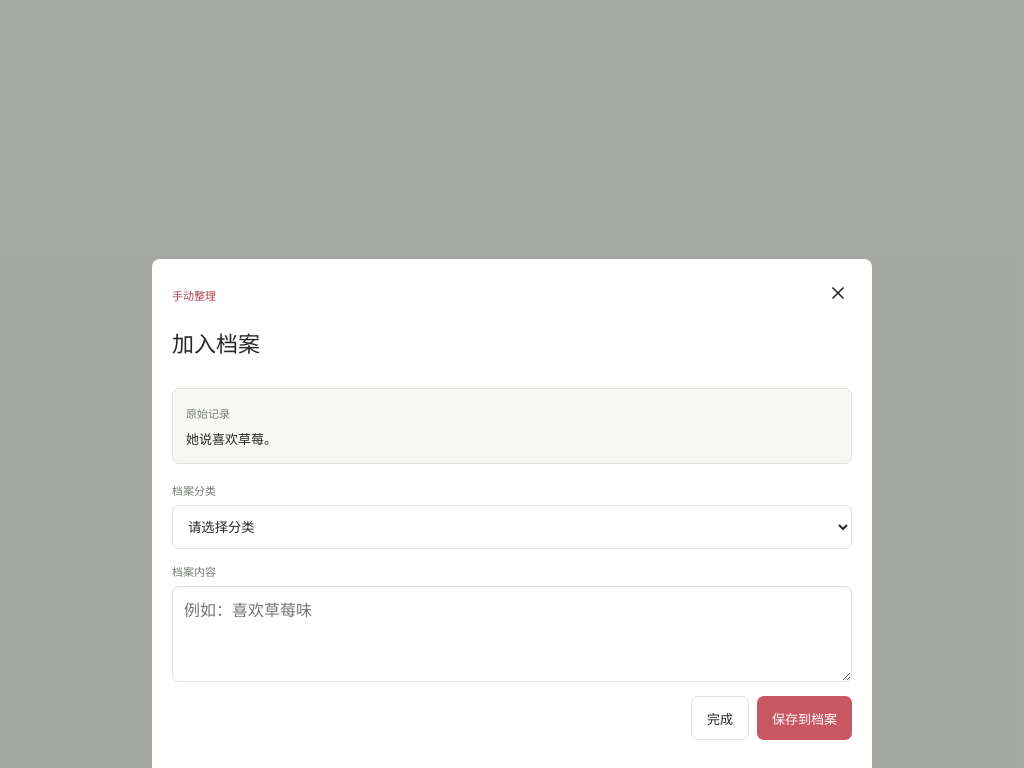
保存失败时保留分类和档案内容
Select "愿望" in the dropdown labelled "档案分类". click: (512, 527)
box: [172,505,852,549]
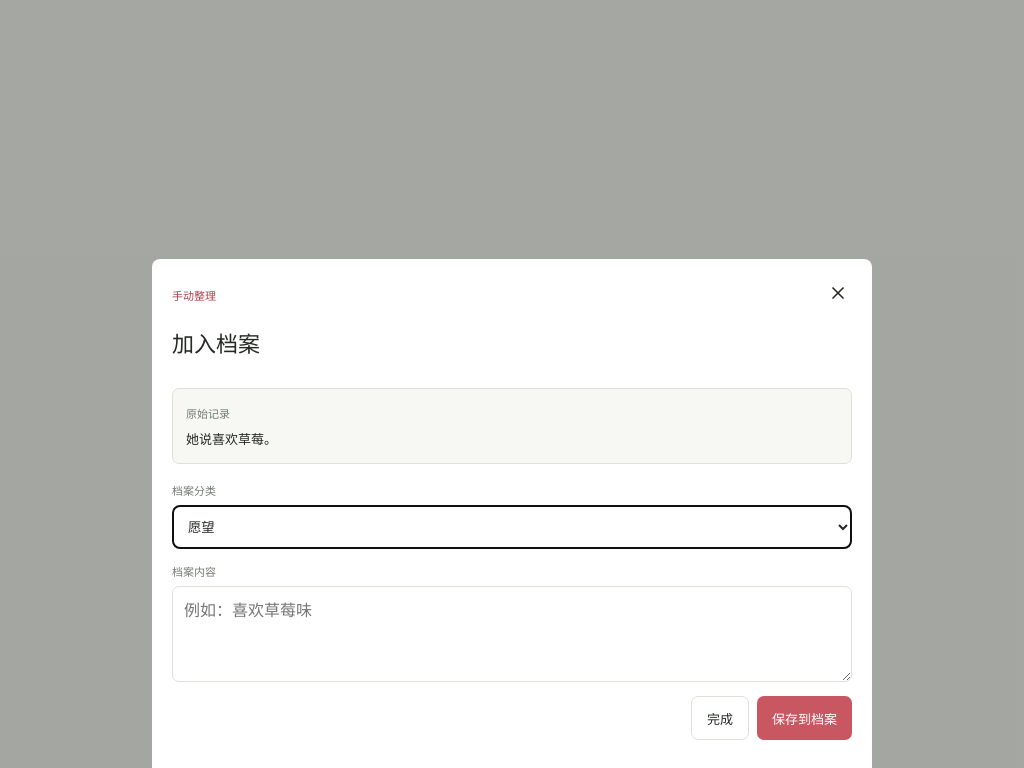
Type "想看夜场电影" into the text box labelled "档案内容". click: (512, 634)
box: [172,586,852,682]
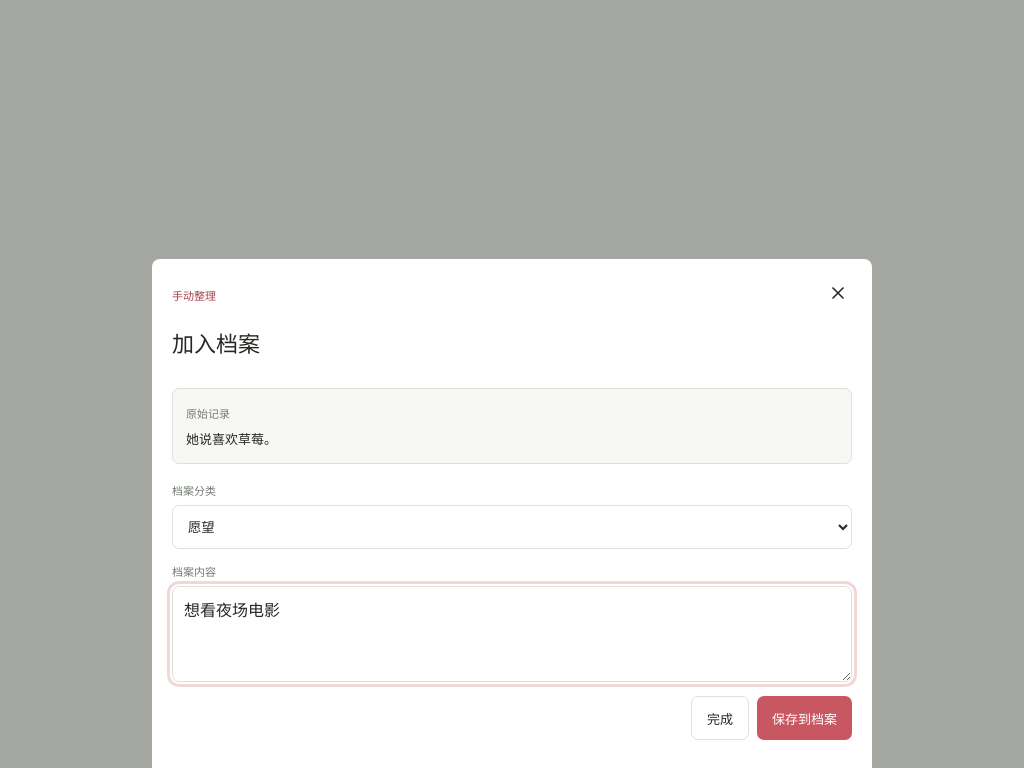
Click the button "保存到档案". click: (804, 718)
box: [757,696,852,740]
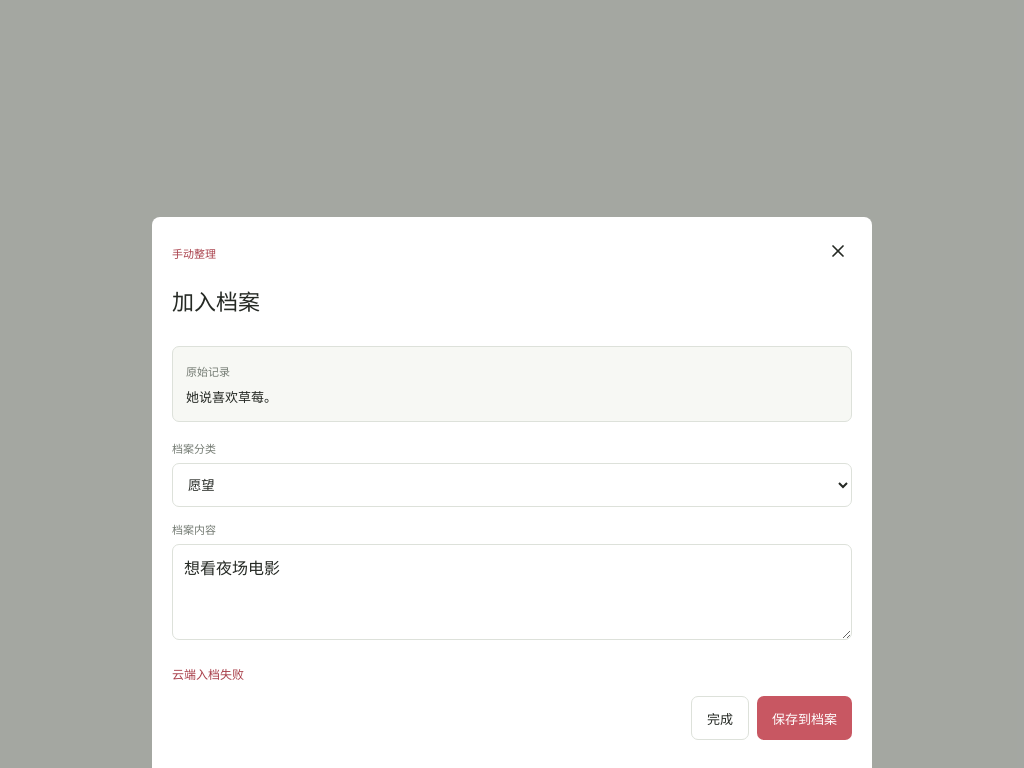
expect the message reads "云端入档失败": met, box [172,667,244,682]
